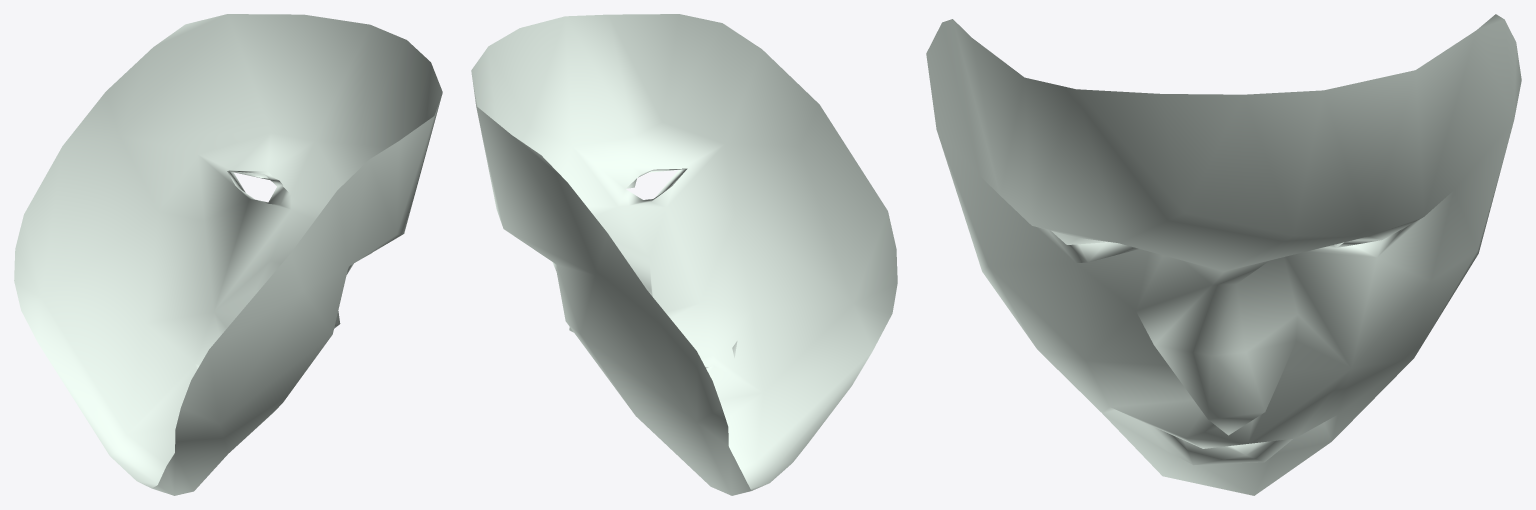
Rendered from Cara.fbx.
3 renders of one model, left to right at view 1: azimuth 30°, elevation 25°; view 2: azimuth 150°, elevation 25°; view 3: azimuth 270°, elevation 25°, orthographic. The views are drawn at different scales.
Parts seen in each view (by area): view 1: JODIE_HEAD; view 2: JODIE_HEAD; view 3: JODIE_HEAD.
Boxes of the visible parts, x1,y1,x2,y2 form: JODIE_HEAD: (14, 14, 442, 495); JODIE_HEAD: (471, 14, 897, 495); JODIE_HEAD: (926, 14, 1521, 495).
Size of the model in its own units: 265 by 307 by 290.
Materials: 1 (1 with a texture image).
